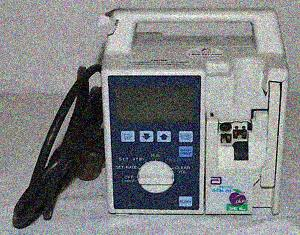plumxl1: (101, 9, 290, 220)
